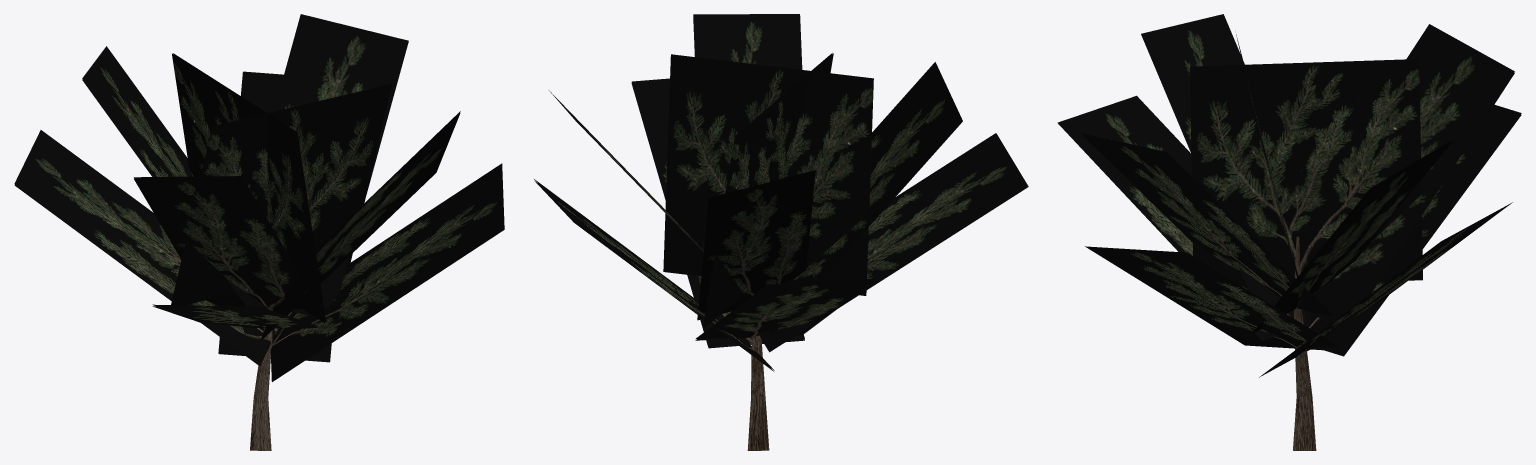
The model's file is mtns_shrb_evergreen_a1_l1.fbx.
3 views of the same model, side by side, from view 1: azimuth 30°, elevation 25°; view 2: azimuth 150°, elevation 25°; view 3: azimuth 270°, elevation 25° (orthographic). The views are drawn at different scales.
Parts seen in each view (by area): view 1: mesh_node; view 2: mesh_node; view 3: mesh_node.
Boxes of the visible parts, box(x1,y1,x2,y2) form: mesh_node: box(14, 14, 504, 450); mesh_node: box(534, 14, 1028, 450); mesh_node: box(1057, 14, 1521, 450).
Size of the model in its own units: 4.38 by 4.09 by 4.56.
